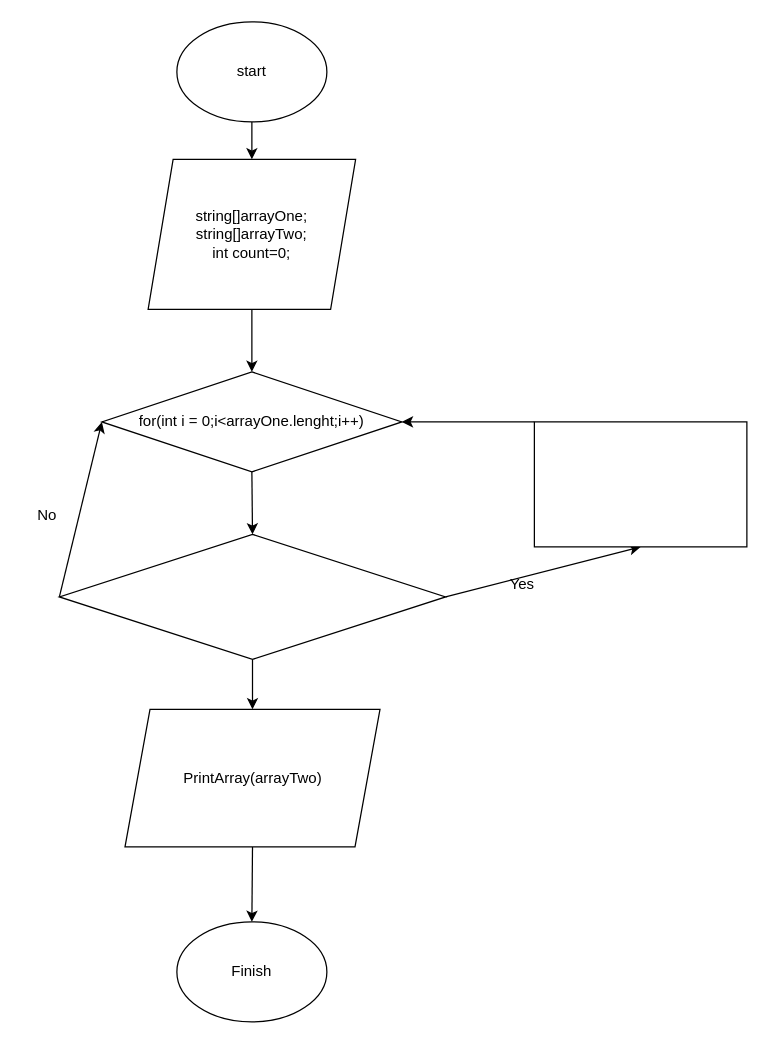
This 769x1044 diagram has some shape labels left out. The shapes that lost their labels are listed below. From the top down, each one's box as (x1, y1, x2, y2) in pixels, then its label:
(533, 421, 747, 547): arrayTwo[count]=array[i]; count++
(58, 533, 446, 659): if(arrayOne[i].lenght <= 3)
